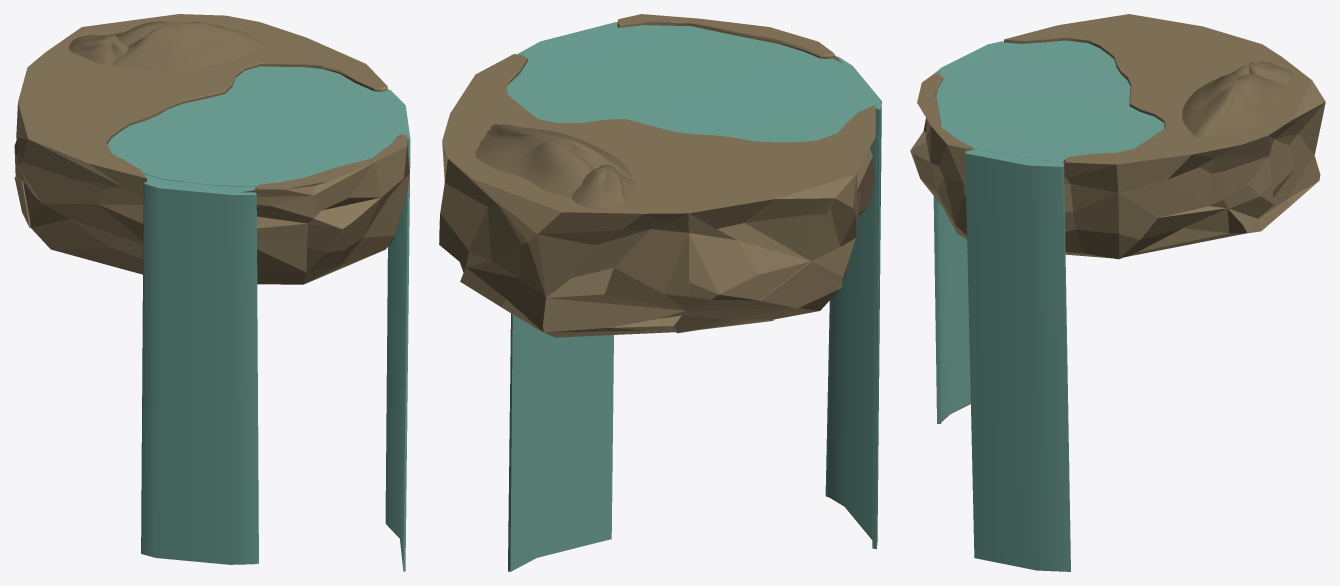
File: SouthernOasisIsland.fbx
3 views of the same model, side by side, from view 1: azimuth 30°, elevation 25°; view 2: azimuth 150°, elevation 25°; view 3: azimuth 270°, elevation 25° (orthographic). The views are drawn at different scales.
Visible parts, largest first — view 1: SouthernOasisIsland; view 2: SouthernOasisIsland; view 3: SouthernOasisIsland.
Boxes of the visible parts, x1,y1,x2,y2 form: SouthernOasisIsland: (14, 14, 410, 571); SouthernOasisIsland: (439, 14, 881, 571); SouthernOasisIsland: (910, 14, 1325, 571).
Size of the model in its own units: 61.33 by 80.49 by 69.82.
